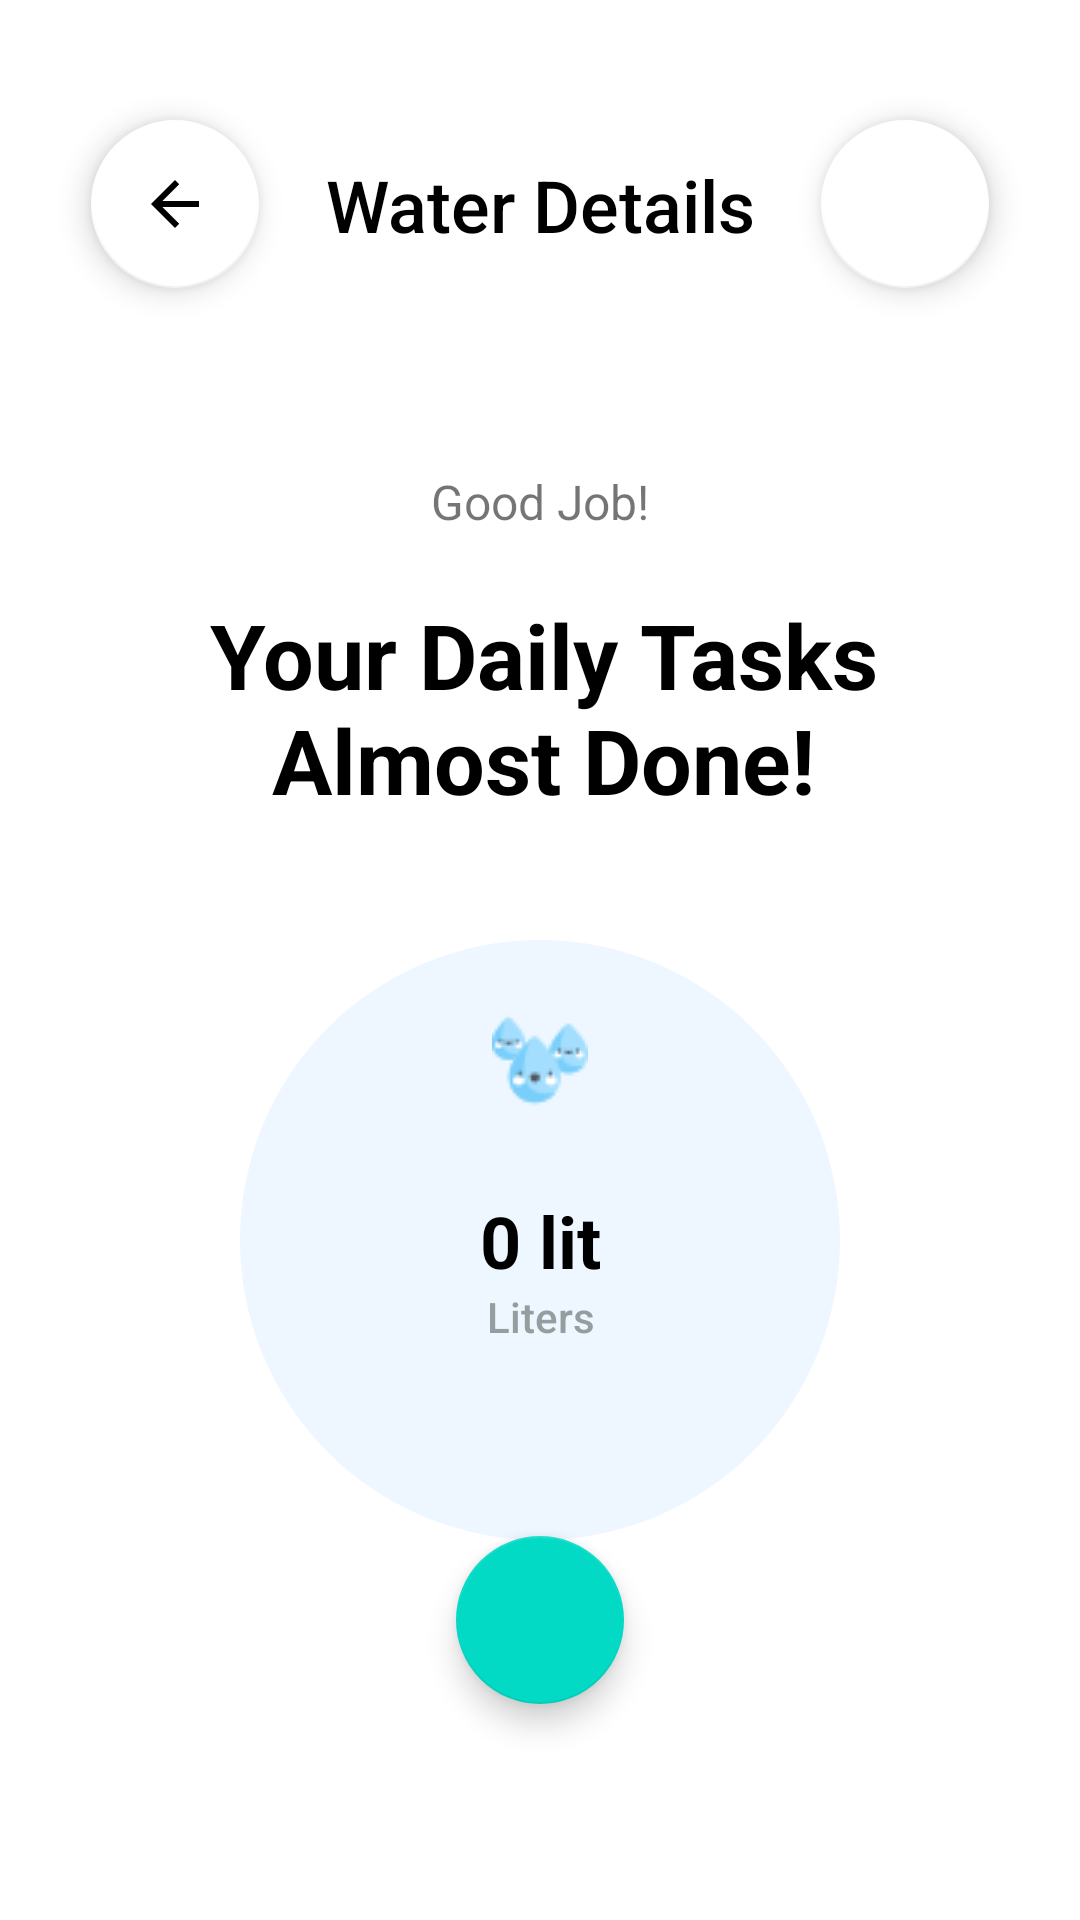

Screen size 1080 × 1920. Icon name, then its center in pixels as (x,y):
water: (540,1061)
